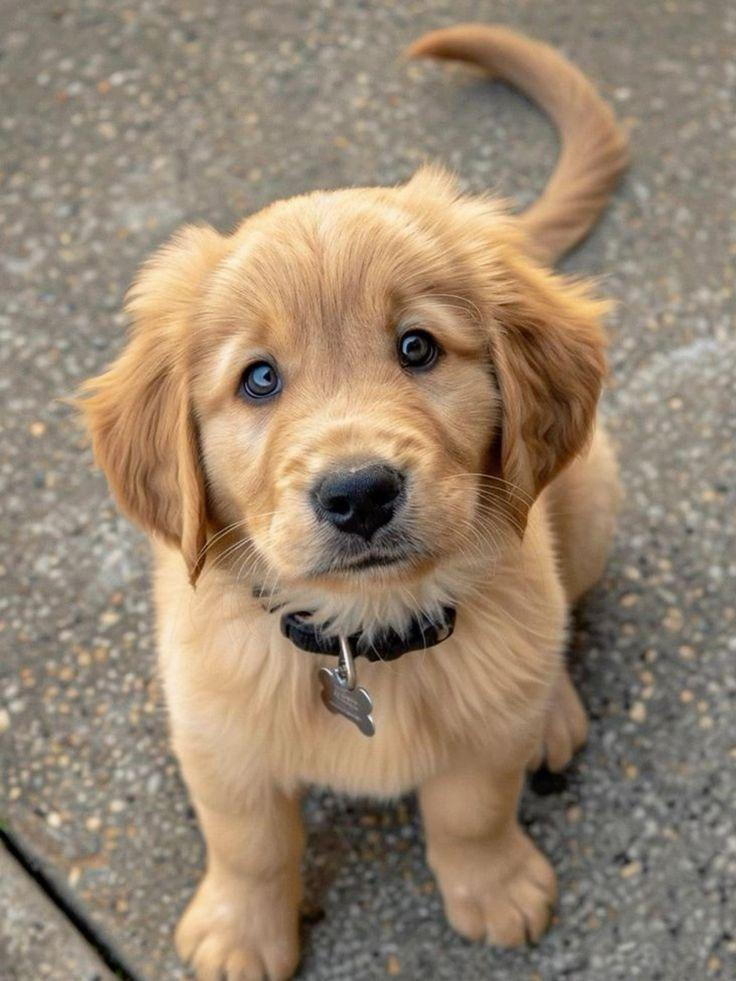puppy-dog: (71, 23, 632, 981)
